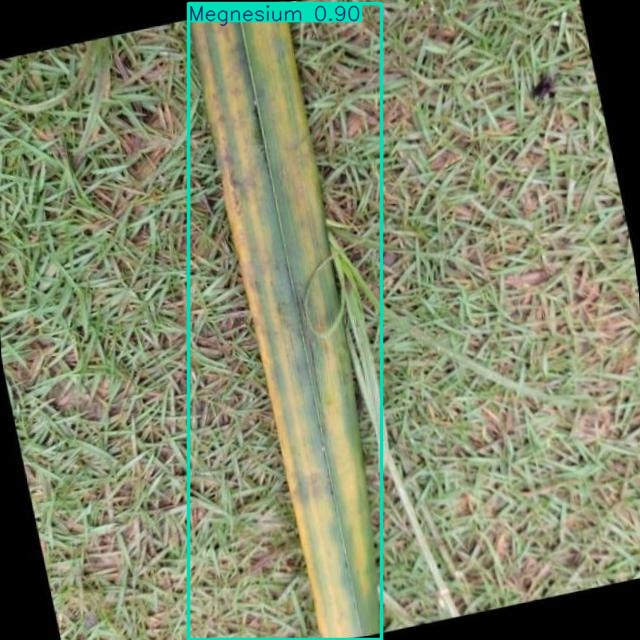Megnesium: (189, 3, 382, 640)
